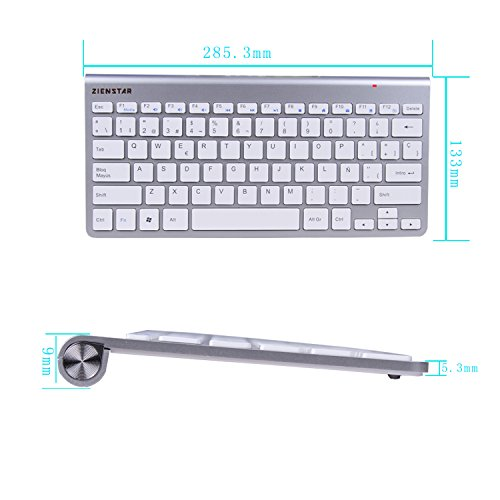Teclado: (80, 68, 433, 240)
